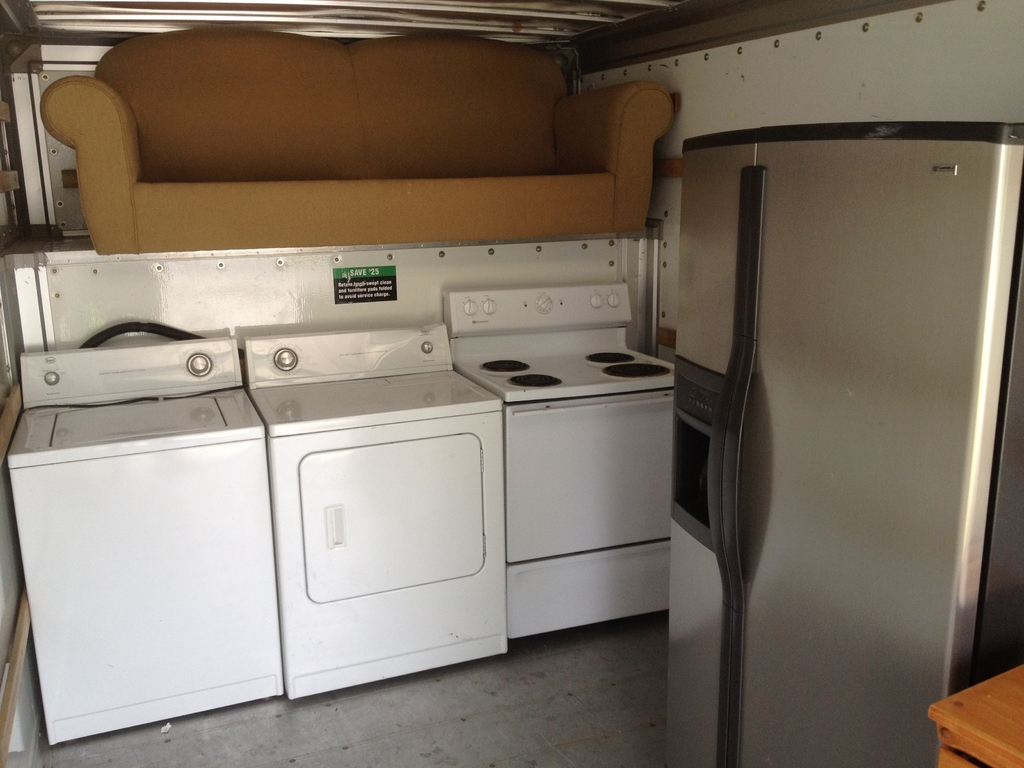handle: (715, 324, 763, 567), (696, 366, 738, 566)
refrigerator door: (759, 146, 947, 768), (679, 165, 746, 765)
